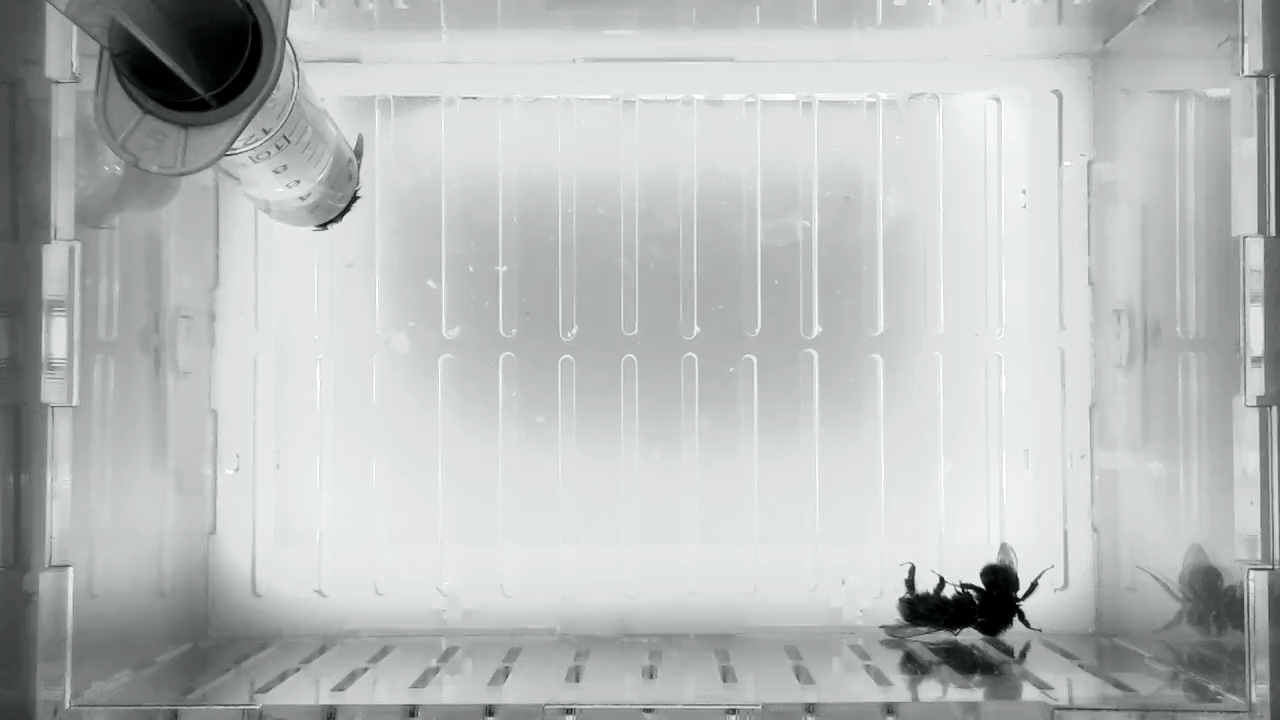bee_alive: (945, 541, 1058, 644), (311, 128, 369, 240)
bee_dead: (875, 559, 984, 644)
feeder: (210, 49, 365, 231)
